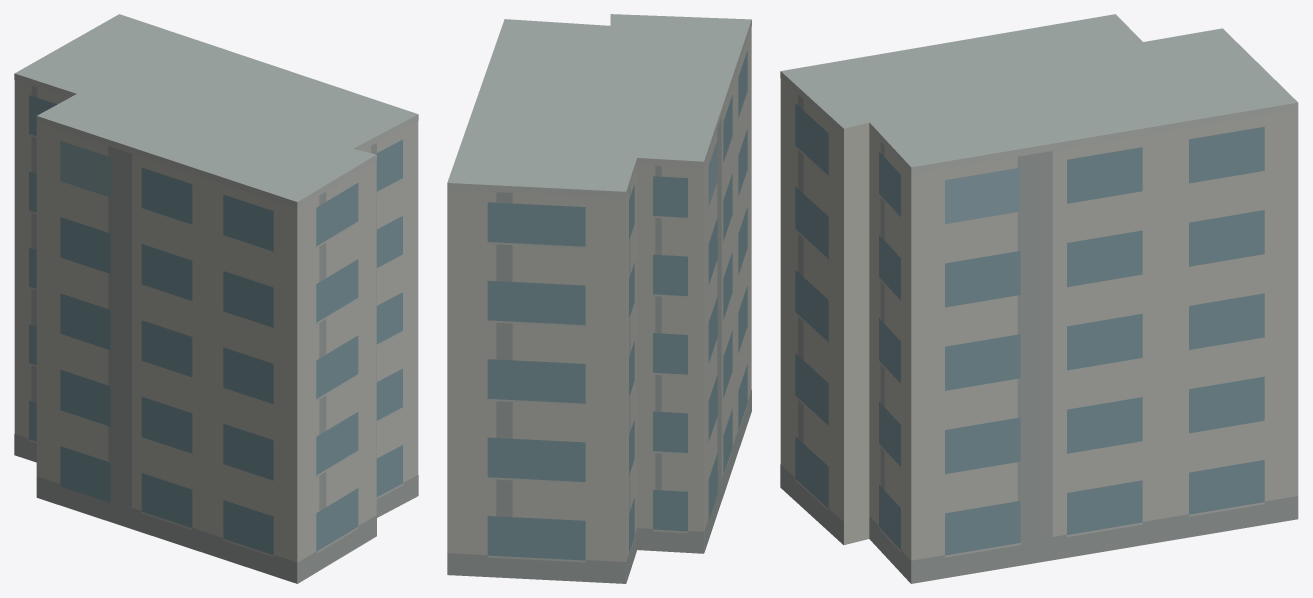
Rendered from survey-upis-32885921.glb.
3 views of the same model, side by side, from view 1: azimuth 30°, elevation 25°; view 2: azimuth 150°, elevation 25°; view 3: azimuth 270°, elevation 25° (orthographic). The views are drawn at different scales.
Parts seen in each view (by area): view 1: survey-upis-32885921.tmp; view 2: survey-upis-32885921.tmp; view 3: survey-upis-32885921.tmp.
Boxes of the visible parts, x1,y1,x2,y2 form: survey-upis-32885921.tmp: (14, 14, 418, 583); survey-upis-32885921.tmp: (447, 14, 751, 583); survey-upis-32885921.tmp: (780, 14, 1298, 583).
Bounding box in the file's own units: 11.22 × 14.2 × 16.01.
